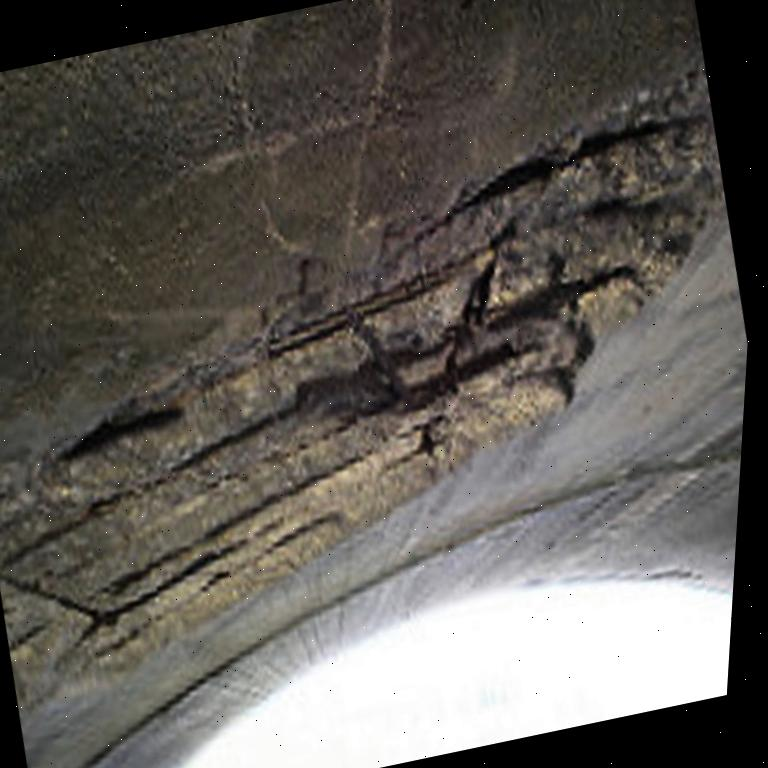spalling: (0, 75, 725, 707)
